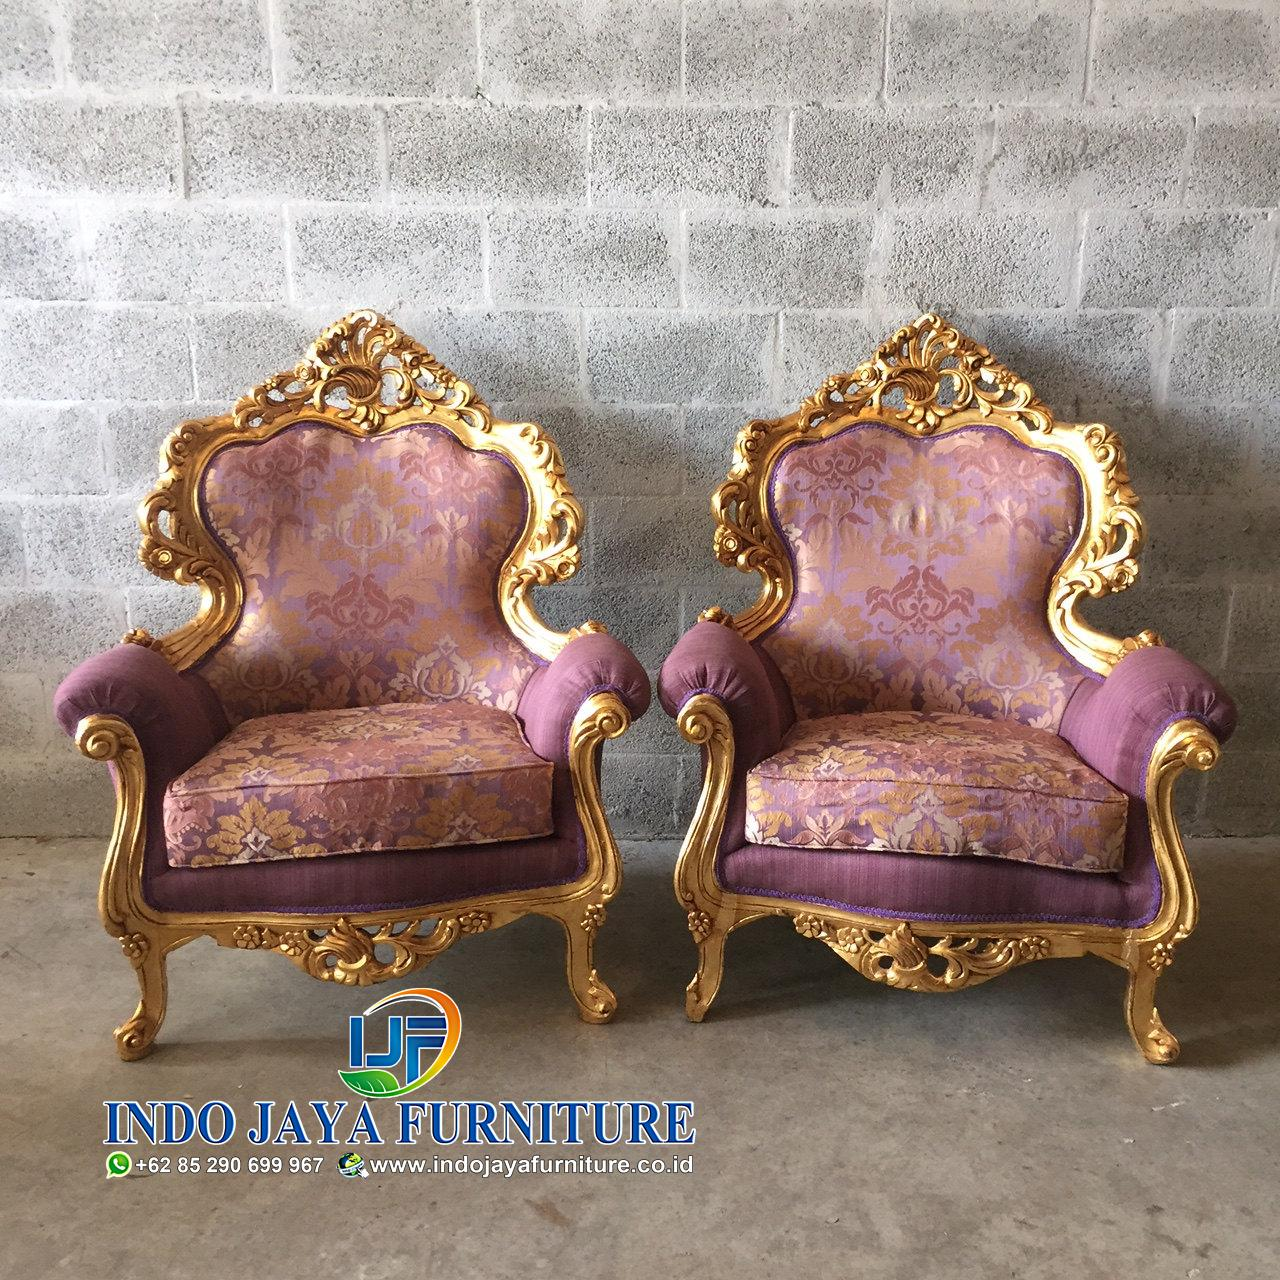Carving Chair: (655, 335, 1235, 1063), (40, 384, 670, 1033)
